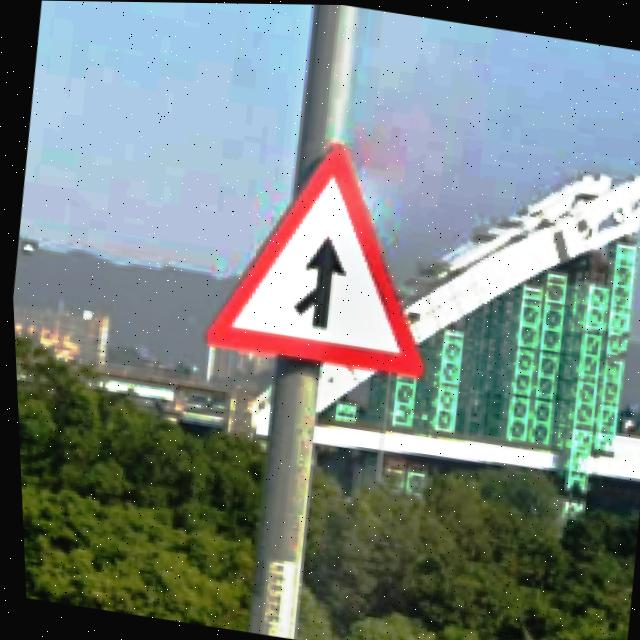leftmerge: (204, 143, 425, 376)
